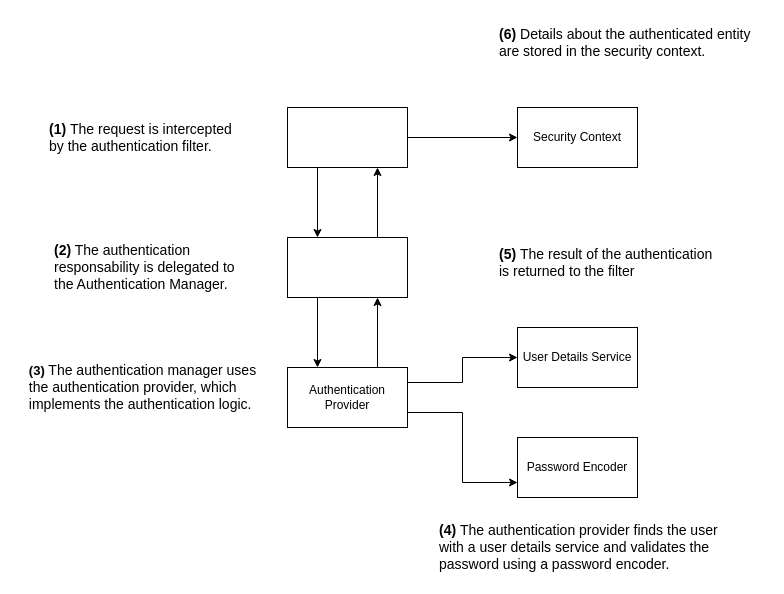
This 784x594 diagram has some shape labels left out. The shapes that lost their labels are listed below. From the top down, each one's centre as x and y in pixels, then its label:
At (x=347, y=137): "Authentication filter".
At (x=347, y=267): "Authentication Manager".
